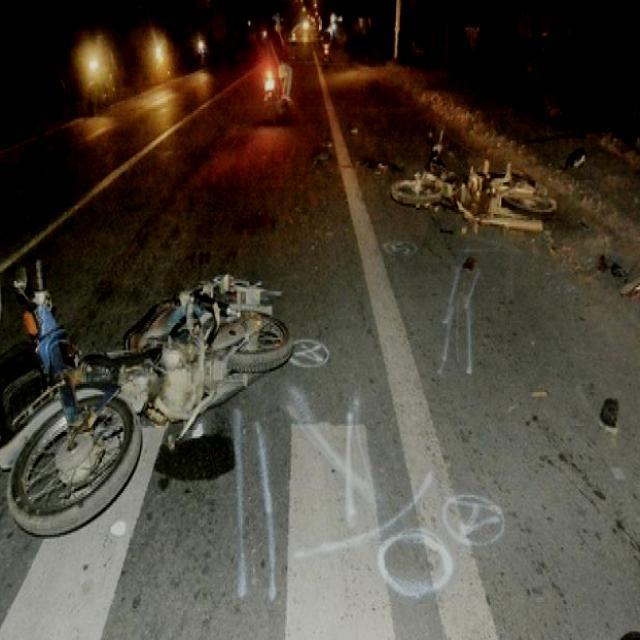accident: (0, 228, 309, 527), (384, 104, 566, 260)
